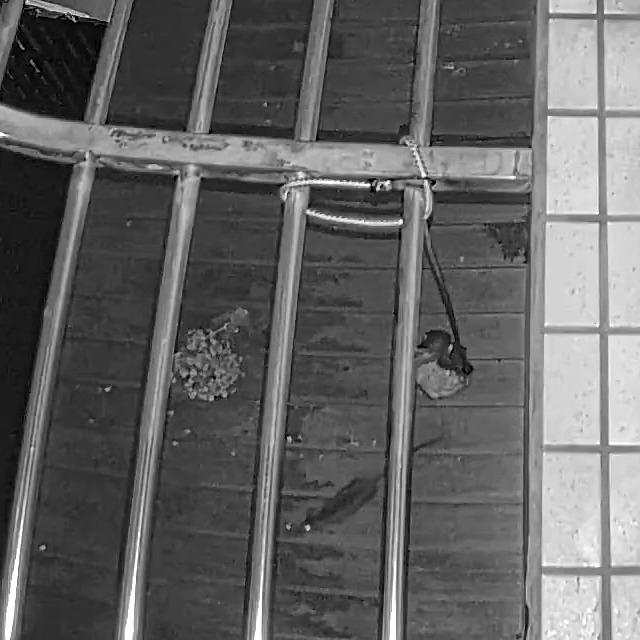rat: (297, 433, 446, 539)
